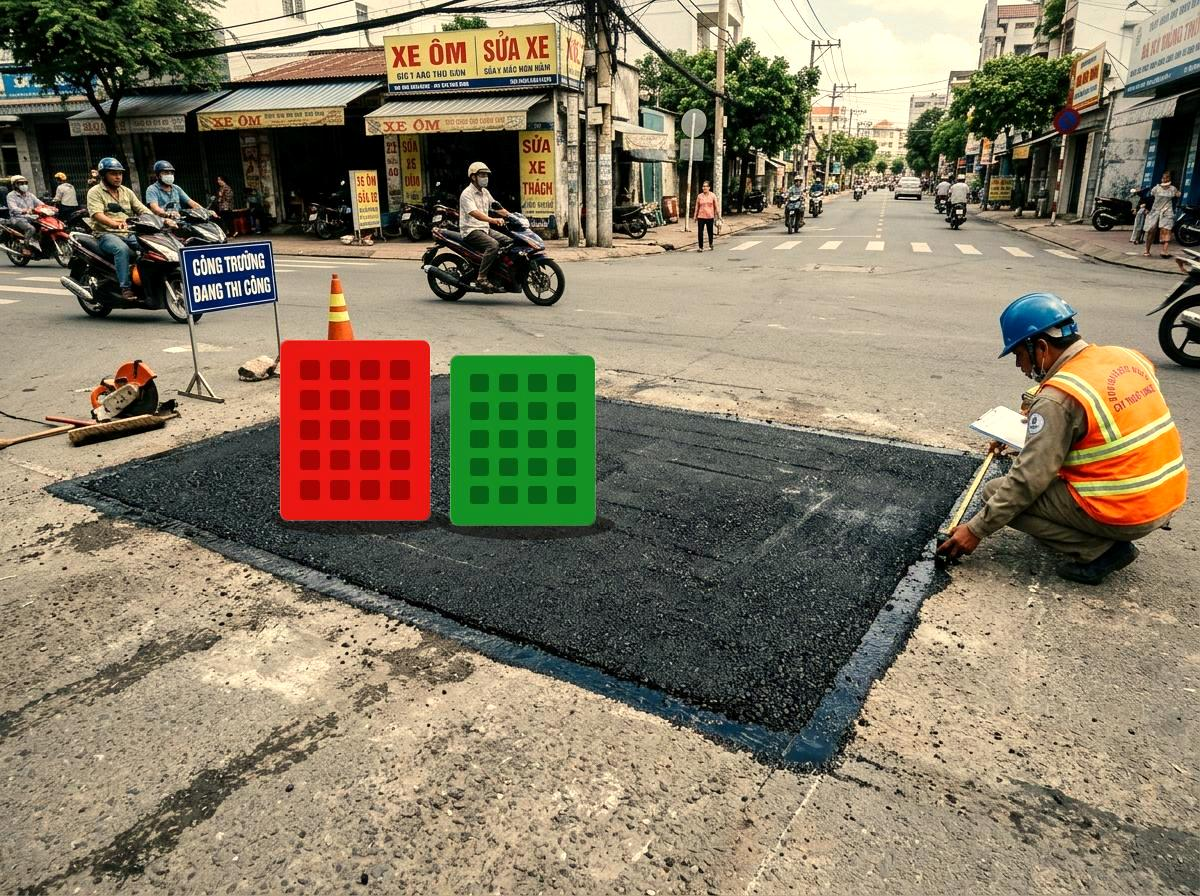ROAD_OBSTACLE: (275, 335, 435, 525), (445, 350, 600, 530)
